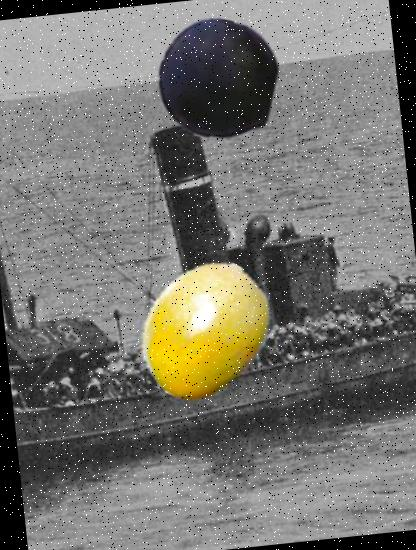Grape: (152, 13, 284, 146)
Maracuja: (124, 250, 286, 412)
